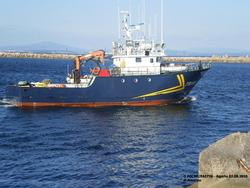otherboat: (4, 7, 214, 111)
